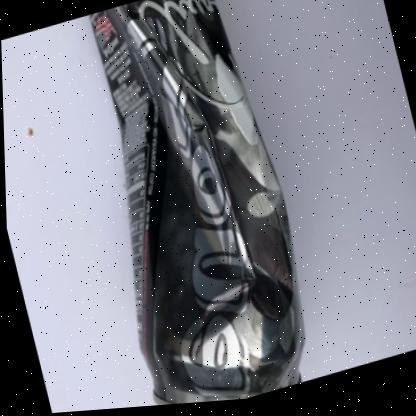Metal: (88, 0, 303, 407)
